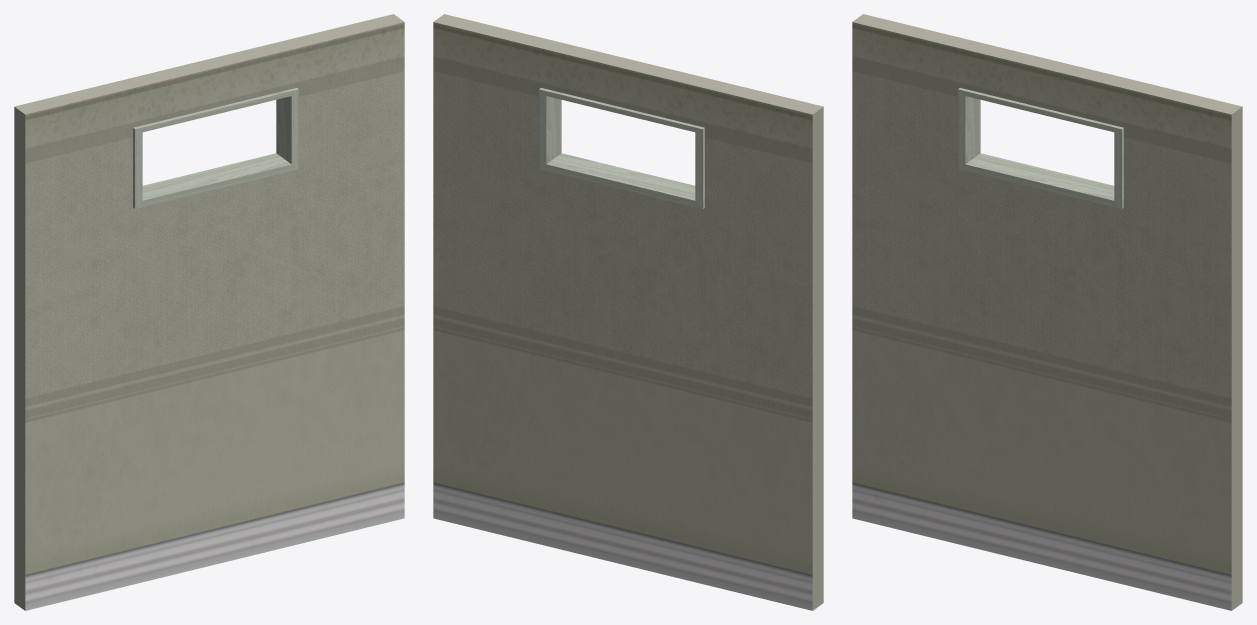
File: Mod_Wall_SmallWindow.fbx
3 renders of one model, left to right at view 1: azimuth 30°, elevation 25°; view 2: azimuth 150°, elevation 25°; view 3: azimuth 330°, elevation 25°, orthographic.
Parts seen in each view (by area): view 1: Mod_Wall_SmallWindow; view 2: Mod_Wall_SmallWindow; view 3: Mod_Wall_SmallWindow.
Part boxes in pixels (<box>): Mod_Wall_SmallWindow: <box>14,14,404,610</box>; Mod_Wall_SmallWindow: <box>433,14,823,610</box>; Mod_Wall_SmallWindow: <box>852,14,1242,610</box>.
Size of the model in its own units: 200 by 250 by 13.93.
